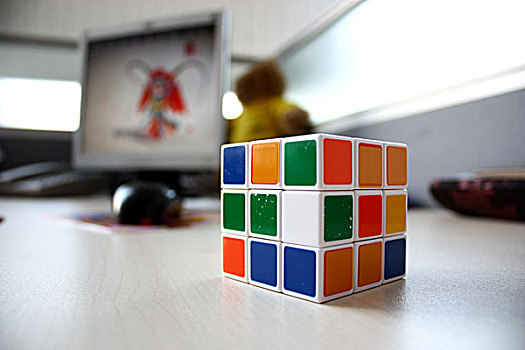cube: (219, 131, 409, 304)
